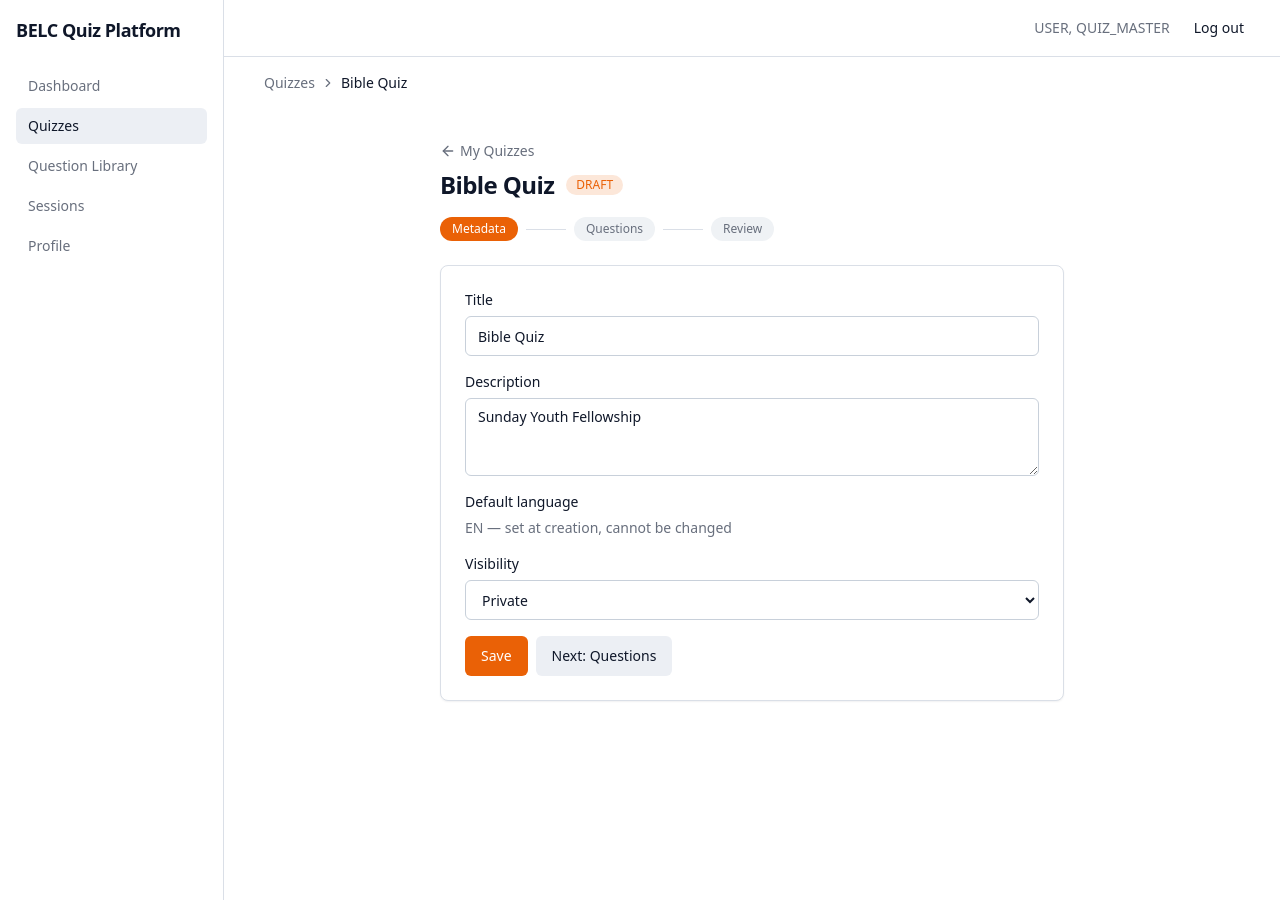
EditQuizMetadataPage › shows a conflict error on a stale version
Expected: the field showing "Bible Quiz" is shown, [465,316,1039,356]
Click the button "Save".
click(496, 656)  # box [465,636,528,676]
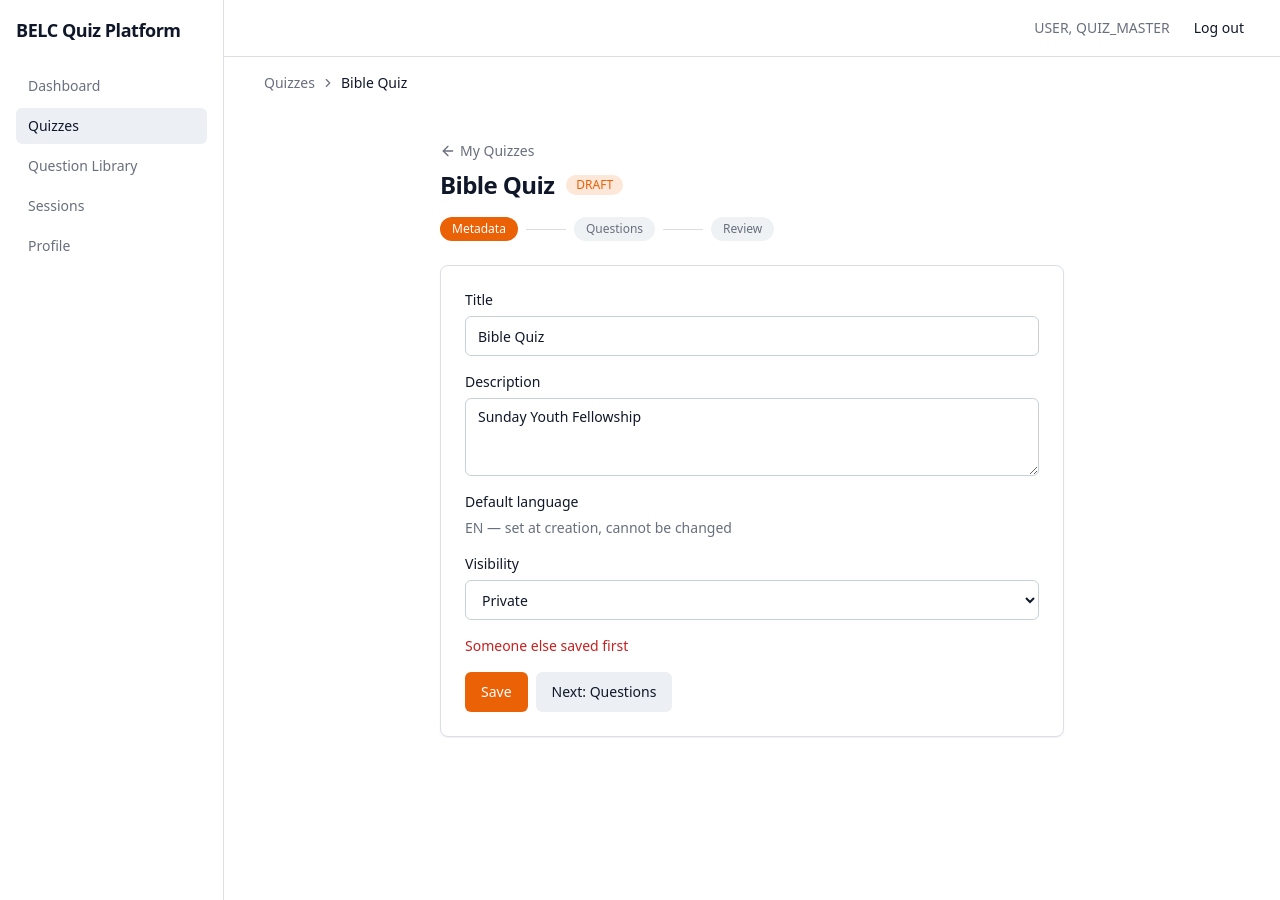
Expected: the text "Someone else saved first" is shown, [465,636,628,655]
